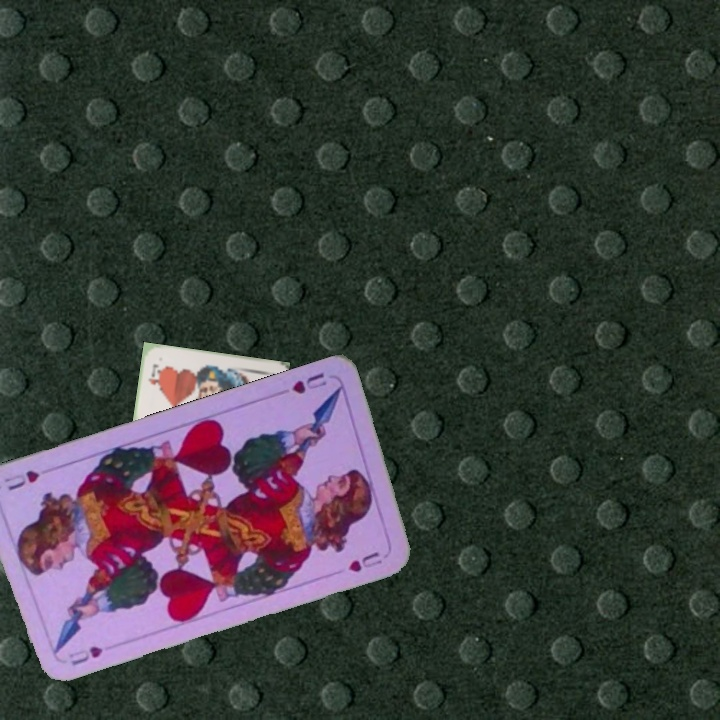HO: (144, 360, 162, 388)
HU: (287, 368, 330, 397), (65, 642, 106, 669)
